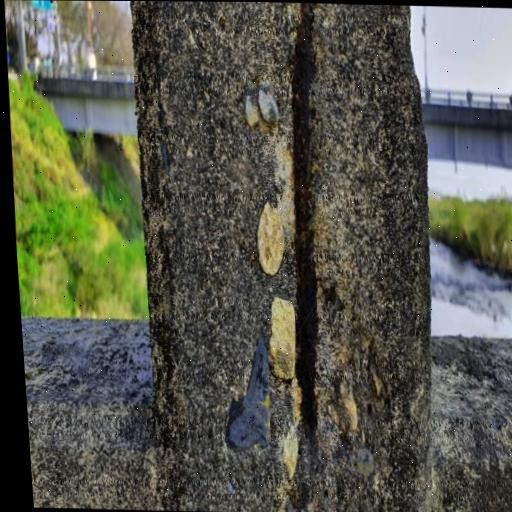exposed_rebar: (292, 3, 318, 431)
